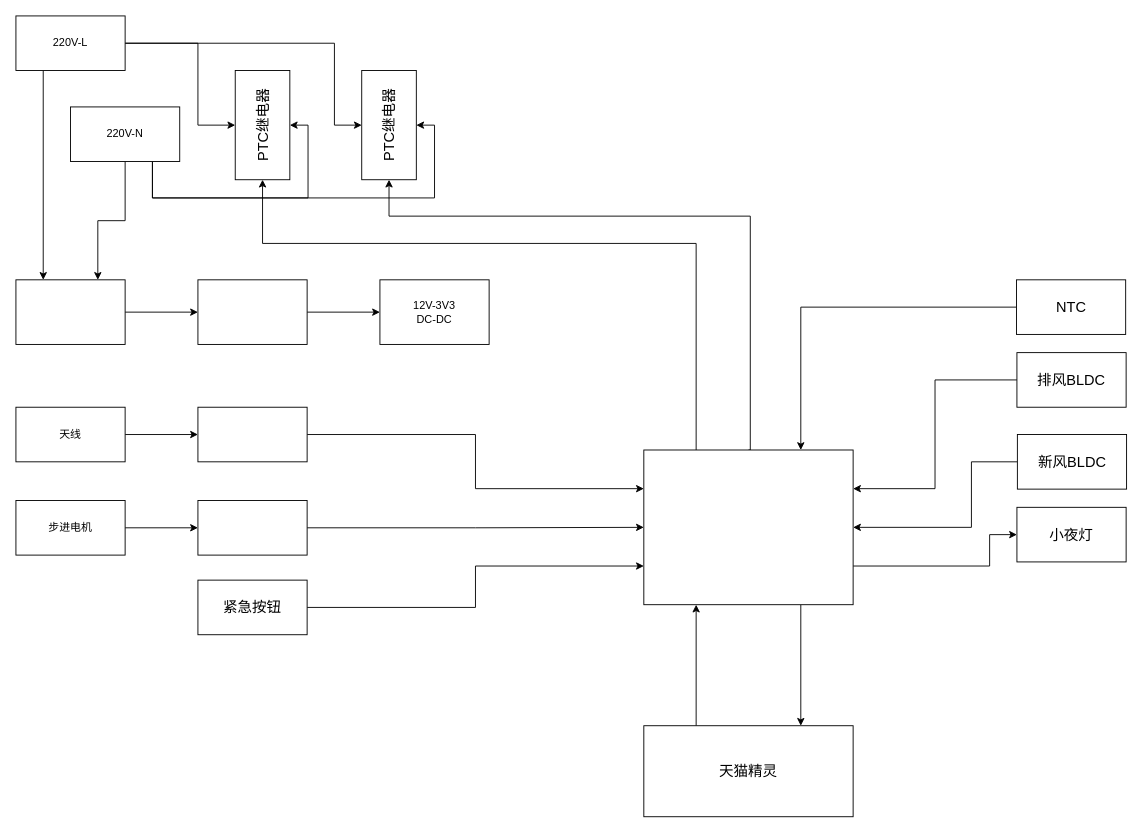
This 1143x833 diagram has some shape labels left out. Here are the shapes that lost their labels. From the top down, the centre of each, then its label:
(x=70, y=311): 220V-24V 电源板
(x=252, y=311): 24V-12V DC-DC
(x=252, y=434): RF
(x=252, y=527): 步进电机驱动
(x=748, y=527): MCU
